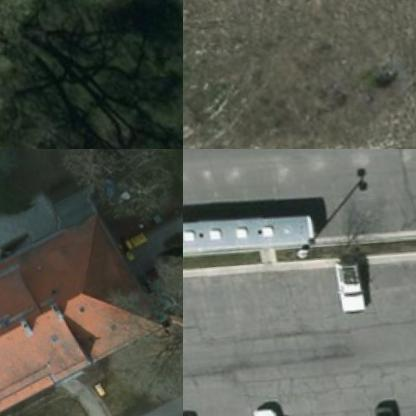car: (328, 258, 368, 312), (368, 397, 408, 415)
